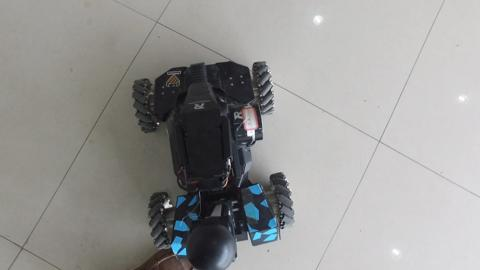chariot: (111, 43, 301, 264)
